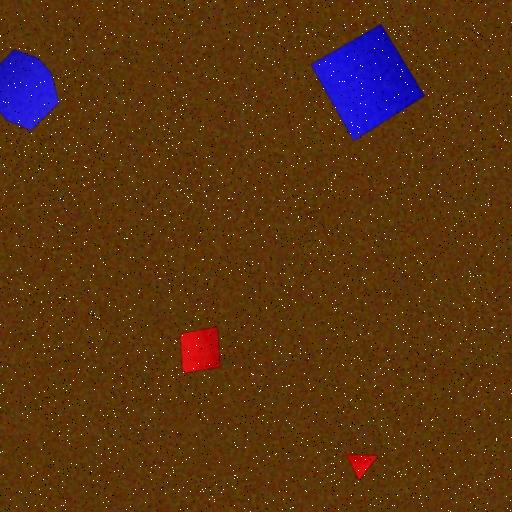BLUE_SQUARE: (310, 23, 426, 142)
RED_SQUARE: (179, 326, 221, 374)
